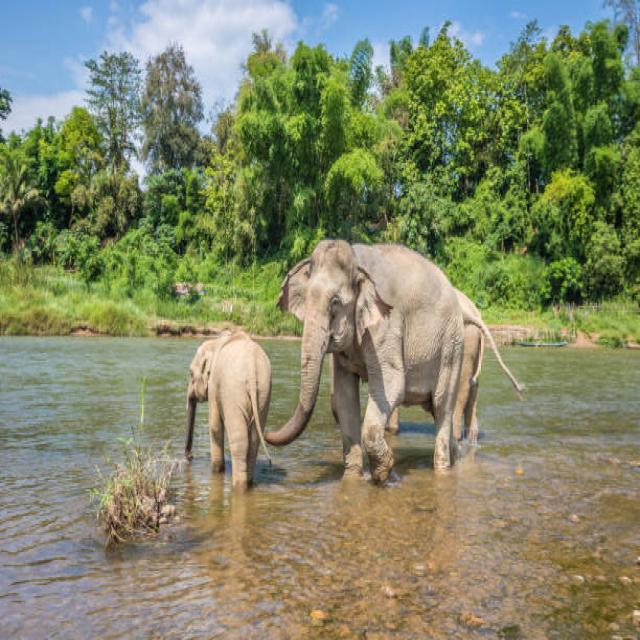Elephant: (269, 234, 506, 489), (182, 314, 276, 516)
